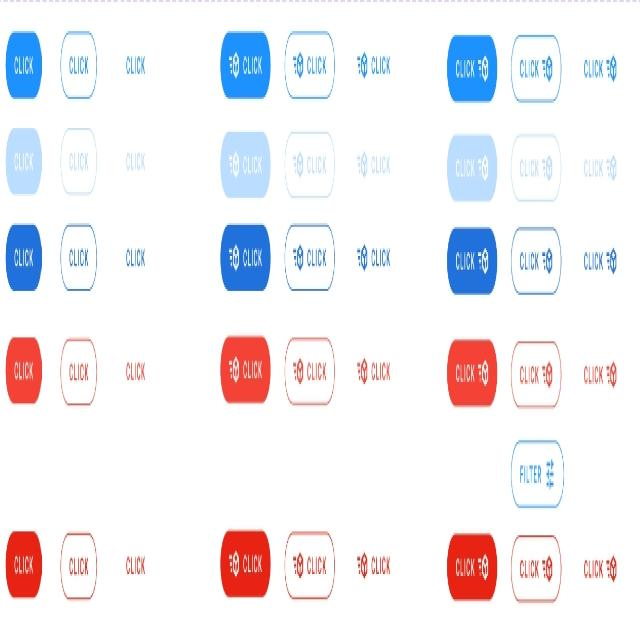QLabel: (12, 44, 36, 83), (124, 138, 147, 178), (125, 48, 148, 84), (305, 352, 328, 388), (68, 237, 90, 274), (68, 353, 90, 389), (241, 548, 263, 584), (454, 242, 476, 278), (518, 150, 540, 186), (67, 49, 90, 82), (123, 546, 146, 578), (306, 48, 327, 83), (305, 240, 327, 273), (125, 239, 146, 273), (13, 146, 35, 178), (454, 54, 476, 86), (518, 461, 543, 489), (519, 52, 540, 85), (124, 357, 147, 387), (453, 553, 476, 583), (583, 245, 603, 279), (242, 353, 263, 385), (370, 147, 391, 179), (241, 150, 264, 179), (305, 148, 327, 178), (370, 354, 391, 385), (369, 552, 393, 579), (453, 358, 477, 385), (242, 48, 262, 80), (582, 54, 604, 83), (68, 550, 89, 580), (12, 355, 34, 383), (370, 49, 391, 78), (518, 556, 539, 585), (583, 359, 604, 388), (518, 244, 538, 274), (68, 148, 90, 175), (13, 242, 34, 270), (455, 153, 475, 182), (518, 362, 540, 388), (242, 244, 263, 271), (370, 242, 390, 270), (583, 555, 603, 583), (13, 552, 34, 578), (306, 553, 328, 577), (584, 156, 603, 183)
VBtn: (510, 339, 562, 410), (220, 334, 272, 404), (220, 528, 272, 598), (511, 225, 562, 296), (511, 439, 564, 507), (284, 29, 334, 101), (511, 33, 561, 105), (511, 532, 561, 604), (220, 31, 271, 101), (447, 34, 498, 104), (447, 532, 498, 602), (284, 222, 334, 292), (512, 133, 562, 203), (220, 224, 271, 292), (221, 130, 271, 199), (447, 133, 497, 202), (285, 130, 335, 199), (447, 337, 497, 406), (284, 336, 334, 404), (447, 226, 497, 293), (350, 529, 399, 596), (352, 333, 400, 400), (352, 130, 397, 200), (352, 30, 396, 99), (580, 136, 622, 206), (580, 340, 623, 406), (5, 27, 42, 102), (4, 530, 42, 600), (580, 540, 623, 601), (60, 30, 97, 100), (5, 335, 42, 405), (353, 234, 398, 291), (60, 530, 97, 599), (60, 222, 96, 292), (118, 530, 154, 600), (5, 127, 42, 195), (60, 336, 96, 405), (61, 127, 96, 196), (5, 223, 41, 290), (119, 31, 153, 100), (580, 44, 621, 101), (581, 234, 621, 291), (119, 130, 153, 196), (119, 224, 151, 289), (120, 344, 152, 400)
VIcon: (226, 143, 240, 184), (354, 43, 368, 83), (540, 242, 555, 278), (291, 143, 304, 183), (291, 353, 304, 389), (604, 554, 618, 587), (290, 551, 304, 583), (292, 240, 304, 277), (227, 48, 240, 82), (605, 246, 618, 280), (228, 350, 240, 386), (292, 47, 304, 83), (605, 359, 618, 392), (544, 455, 554, 497), (604, 53, 618, 83), (477, 54, 490, 86), (605, 152, 618, 184), (356, 148, 368, 182), (355, 243, 369, 272), (354, 550, 368, 579), (227, 548, 240, 578), (477, 155, 490, 185), (228, 244, 240, 276), (477, 360, 491, 387), (477, 247, 490, 276), (542, 155, 554, 185), (541, 556, 553, 586), (355, 359, 368, 386), (542, 56, 554, 85), (542, 362, 554, 389), (478, 555, 489, 584)
